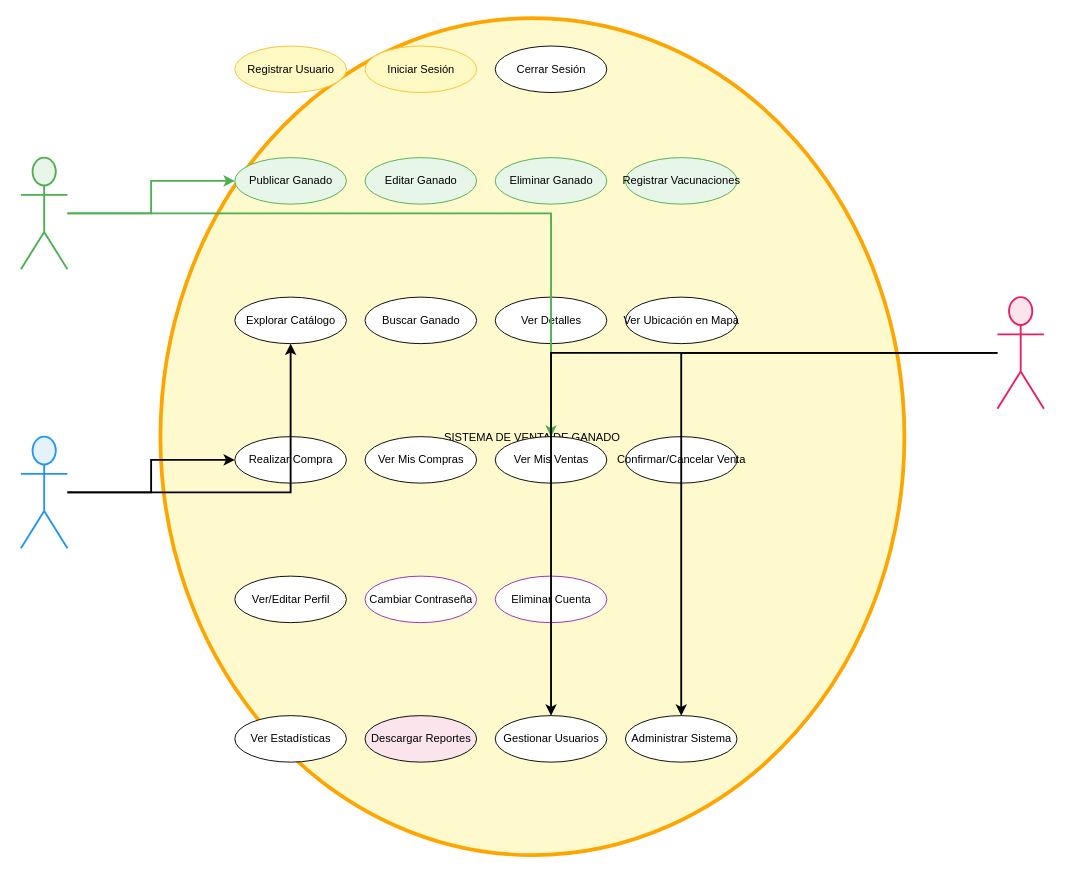
This 1071x872 diagram has some shape labels left out. The shapes that lost their labels are listed below. From the top down, each one's box as (x1, y1, x2, y2) in pixels, then its label:
(20, 156, 68, 270): Vendedor
(996, 296, 1044, 409): Administrador
(20, 435, 68, 549): Comprador
